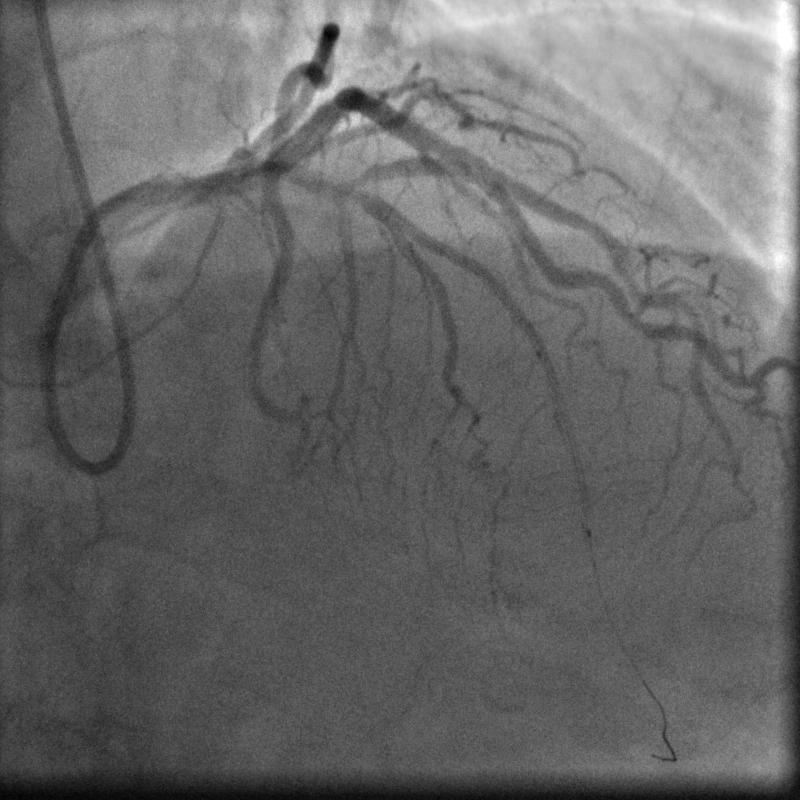Stenosis: (450, 147, 494, 195)
